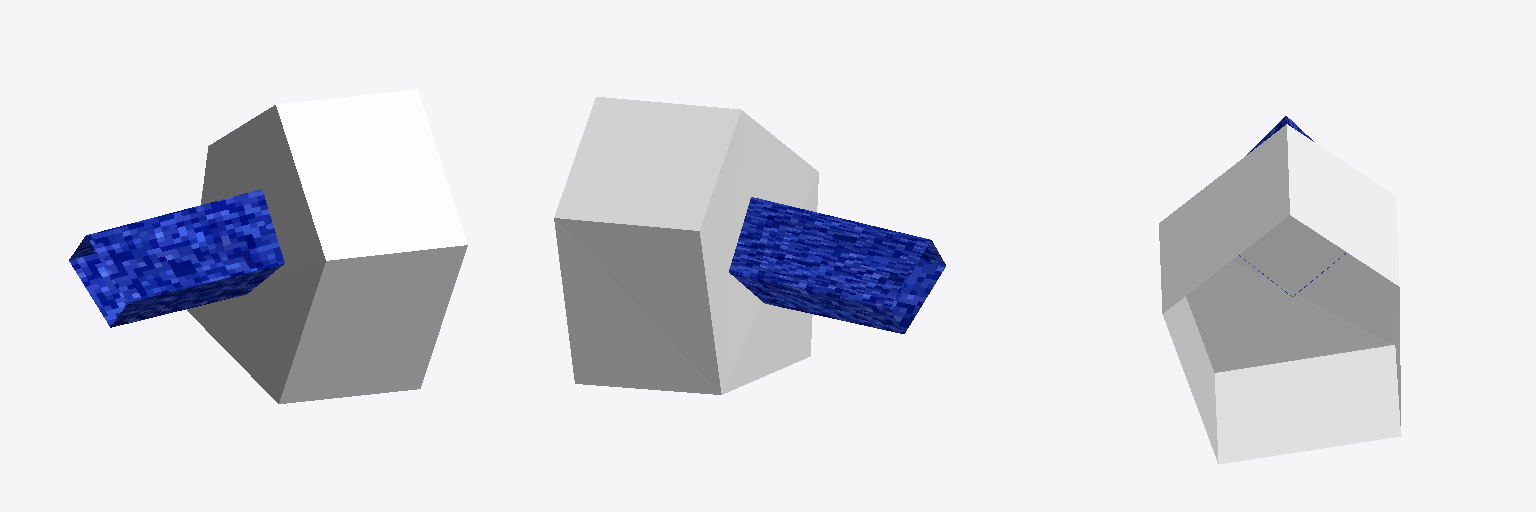
The picture shows the model from 3 angles: view 1: azimuth 30°, elevation 25°; view 2: azimuth 150°, elevation 25°; view 3: azimuth 270°, elevation 25°; orthographic projection.
Size of the model in its own units: 1.36 by 1.12 by 0.858.
Materials: 2 (2 with a texture image).